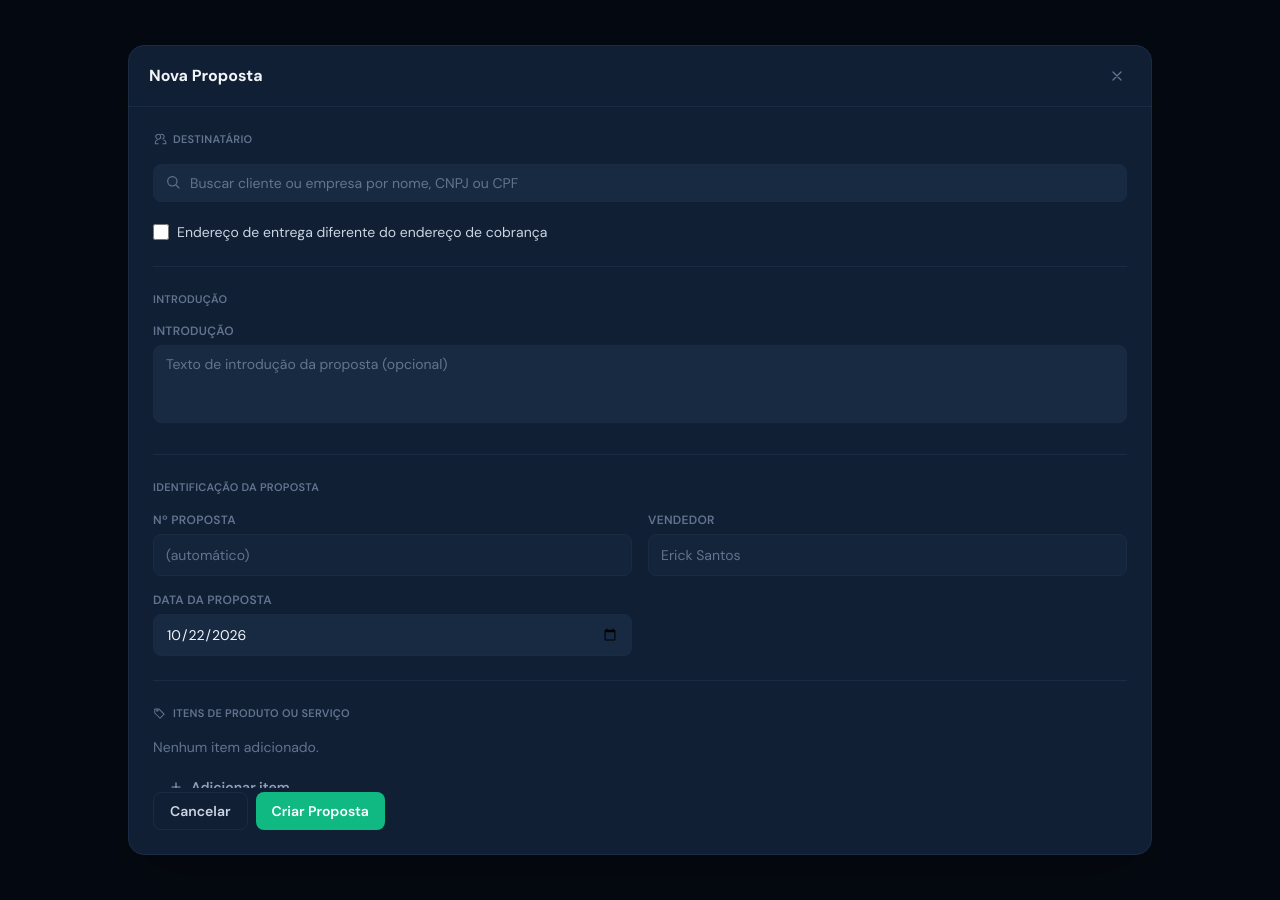
it: PropostaModal › Enter na busca de cliente nao submete o formulario
The width and height of the screenshot is (1280, 900).
Type "Cliente" into the field with placeholder "Buscar cliente ou empresa por nome, CNPJ ou CPF" at point(640, 182), box [153,164,1127,202]
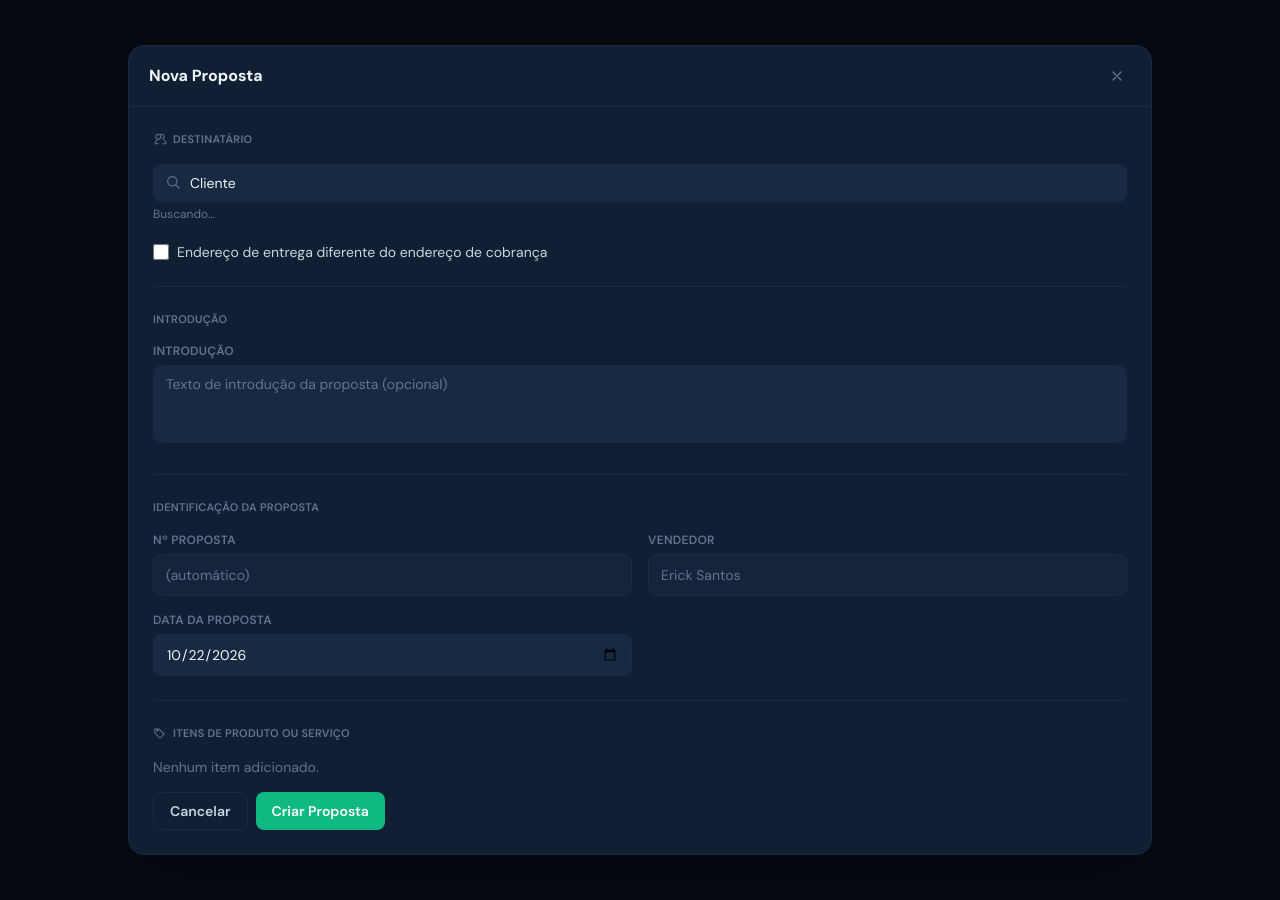
Press Enter in the field with placeholder "Buscar cliente ou empresa por nome, CNPJ ou CPF" below "Destinatário", box [153,164,1127,202]
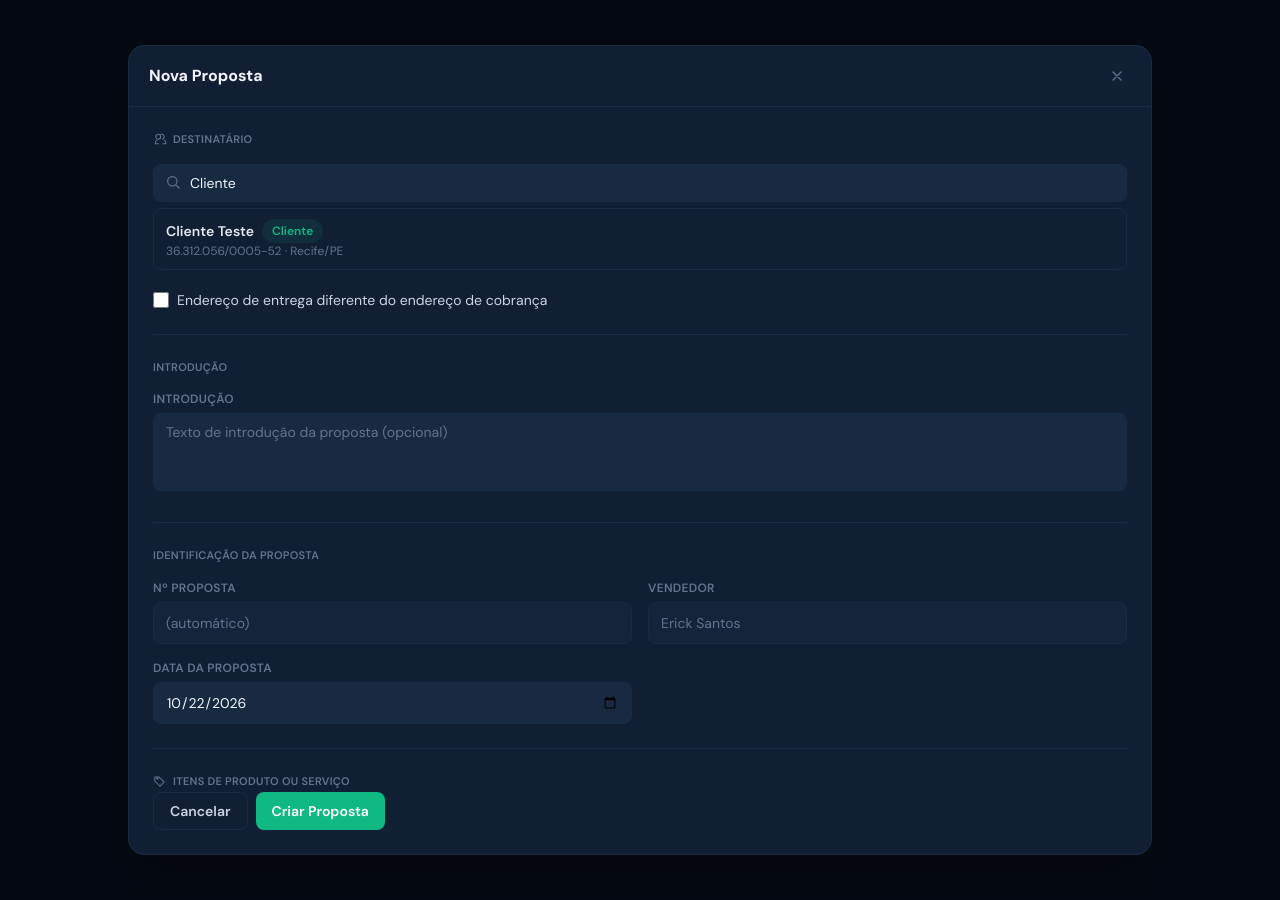
Check: the text "Cliente Teste" is shown, box [166,220,254,240]
